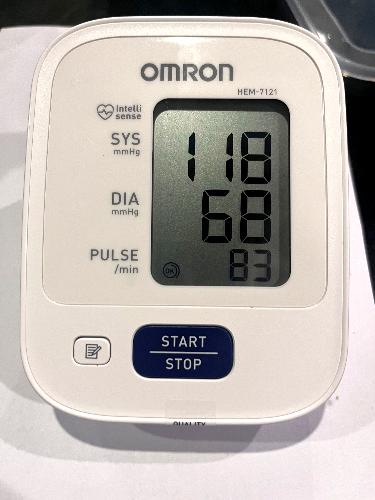bpm: (146, 95, 297, 290)
